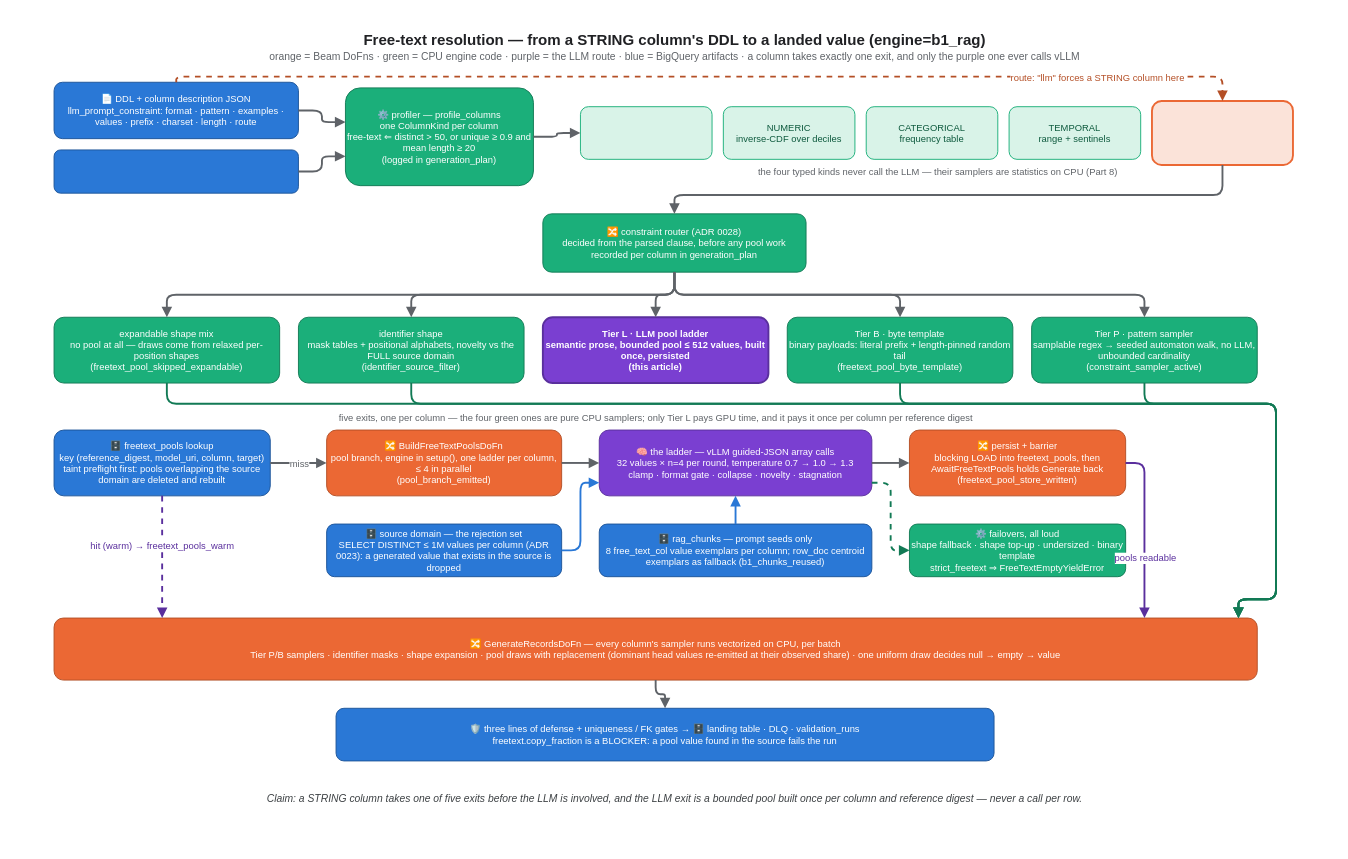
The diagram is 1348 pixels wide and 859 high, and some of its shapes have lost their labels. The centre of each missing label's shape, as x and y in pixels:
"CONSTANT copied verbatim" belongs at point 646,132.
"FREE_TEXT the only kind that can reach the LLM" belongs at point 1222,132.
"🗄️ reference sample ≤ 10k rows null / empty split · distinct · lengths · shapes" belongs at point 175,171.
